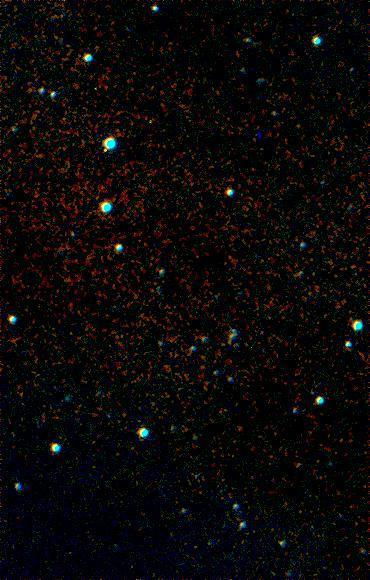star: (95, 137, 125, 167)
